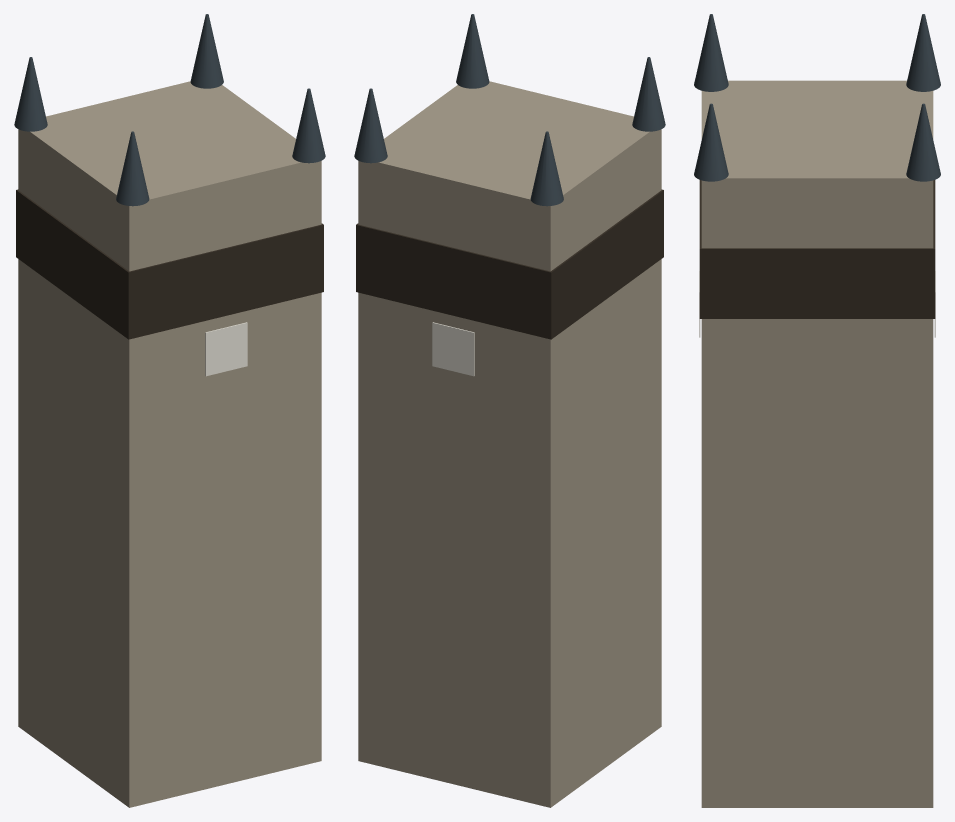
File: d-us-04-collegiate-tower.lod1.glb
The picture shows the model from 3 angles, left to right: view 1: azimuth 30°, elevation 25°; view 2: azimuth 150°, elevation 25°; view 3: azimuth 270°, elevation 25°; orthographic projection. The views are drawn at different scales.
Parts seen in each view (by area): view 1: part0, part5, part7, part4, part3, part1, part2; view 2: part0, part5, part6, part4, part3, part1, part2; view 3: part0, part5, part3, part4, part2, part1.
Part boxes in pixels (bbox=[...]): part0: bbox=[18, 81, 321, 807]; part5: bbox=[16, 189, 323, 339]; part7: bbox=[205, 322, 247, 376]; part4: bbox=[190, 14, 223, 88]; part3: bbox=[292, 88, 325, 163]; part1: bbox=[116, 131, 149, 206]; part2: bbox=[14, 57, 47, 131]; part0: bbox=[358, 81, 661, 807]; part5: bbox=[356, 189, 663, 339]; part6: bbox=[432, 322, 474, 376]; part4: bbox=[354, 88, 387, 163]; part3: bbox=[456, 14, 489, 88]; part1: bbox=[632, 57, 665, 131]; part2: bbox=[530, 131, 563, 206]; part0: bbox=[701, 80, 933, 807]; part5: bbox=[699, 180, 935, 318]; part3: bbox=[694, 103, 728, 181]; part4: bbox=[906, 103, 940, 181]; part2: bbox=[906, 14, 940, 91]; part1: bbox=[694, 14, 728, 91].
Bounding box in the file's own units: 12799 × 40000 × 12799.
